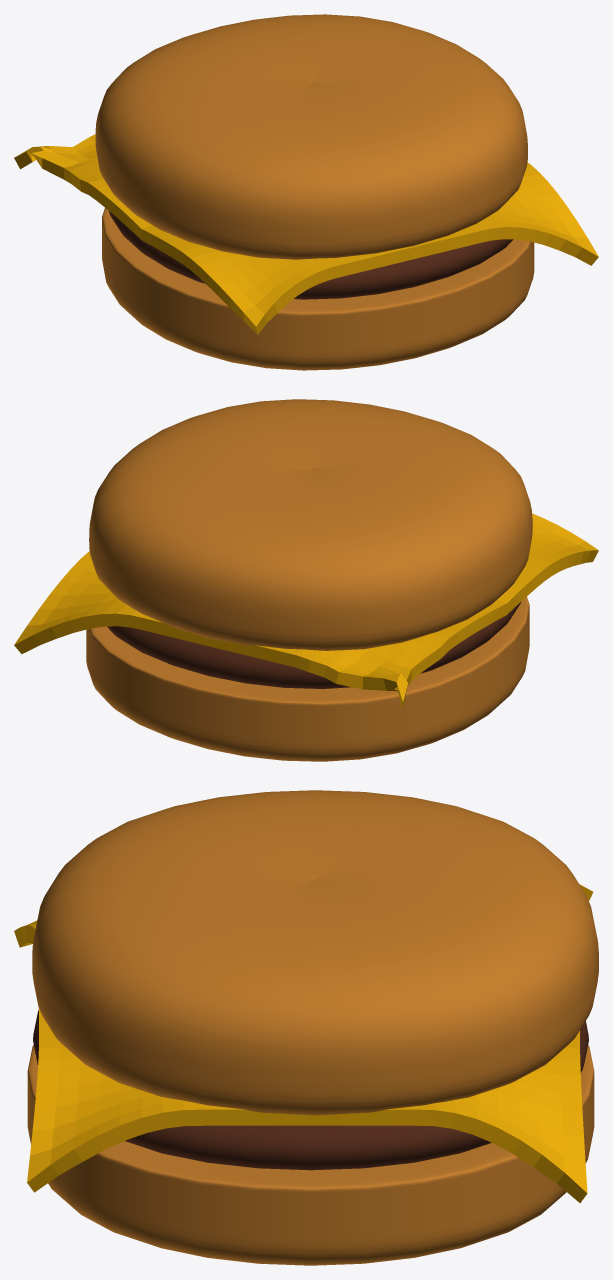
Rendered from hamburger.glb.
3 renders of one model, top to bottom at view 1: azimuth 30°, elevation 25°; view 2: azimuth 150°, elevation 25°; view 3: azimuth 270°, elevation 25°, orthographic. The views are drawn at different scales.
Parts seen in each view (by area): view 1: Cube.004, Cube.001, Plane, Cube.002; view 2: Cube.004, Cube.001, Plane, Cube.002; view 3: Cube.004, Cube.001, Plane, Cube.002.
Part boxes in pixels (left/top/right/bottom): Cube.004: left=95, top=14, right=527, bottom=259; Cube.001: left=102, top=208, right=534, bottom=370; Plane: left=14, top=134, right=598, bottom=334; Cube.002: left=109, top=211, right=513, bottom=299; Cube.004: left=89, top=399, right=532, bottom=650; Cube.001: left=86, top=597, right=529, bottom=761; Plane: left=14, top=513, right=598, bottom=708; Cube.002: left=107, top=602, right=520, bottom=688; Cube.004: left=32, top=790, right=598, bottom=1115; Cube.001: left=27, top=1045, right=594, bottom=1265; Plane: left=14, top=884, right=593, bottom=1202; Cube.002: left=33, top=1009, right=588, bottom=1170.
Bounding box in the file's own units: 9.54 × 5.34 × 9.46.
